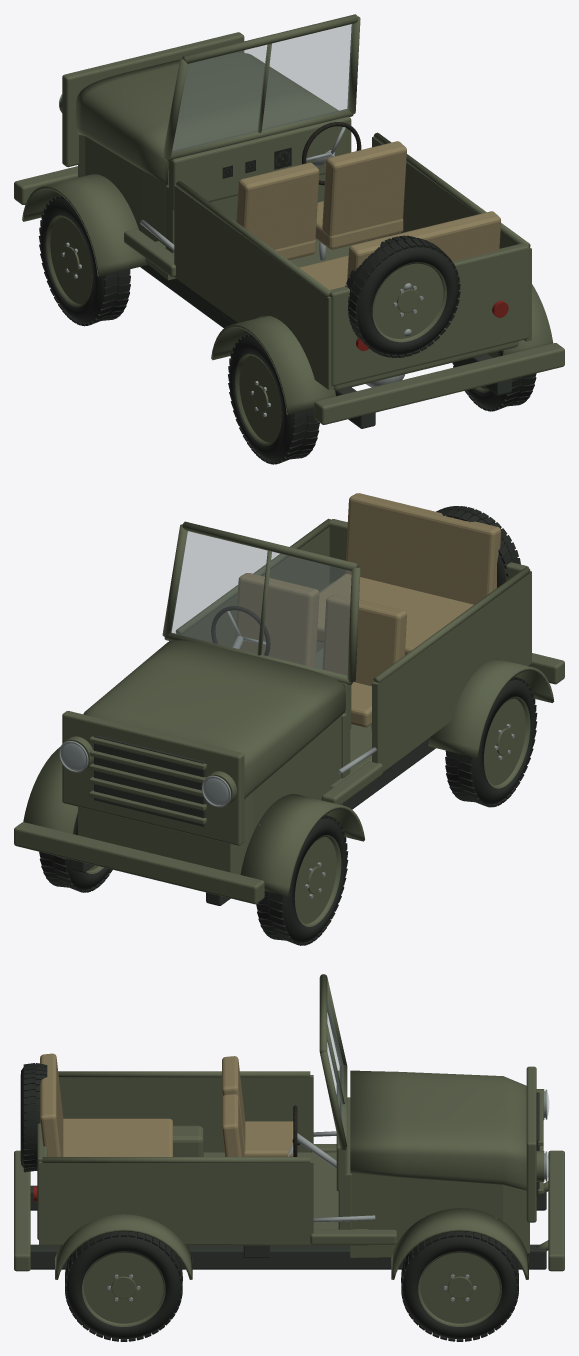
Rendered from utility-jeep.glb.
3 renders of one model, top to bottom at view 1: azimuth 30°, elevation 25°; view 2: azimuth 150°, elevation 25°; view 3: azimuth 270°, elevation 25°, orthographic. The views are drawn at different scales.
Visible parts, largest first — view 1: body-History original | olive, body-History original | canvas, body-glass, body-History original | rubber, wheel-2-History original | rubber, wheel-3-History original | rubber, wheel-2-History original | olive, wheel-3-History original | olive, body-black, wheel-1-History original | rubber, body-steel; view 2: body-History original | olive, body-History original | canvas, body-glass, body-black, wheel-3-History original | rubber, wheel-2-History original | rubber, wheel-2-History original | olive, wheel-3-History original | olive, wheel-0-History original | rubber, body-History original | rubber, body-aluminum, body-steel; view 3: body-History original | olive, body-History original | canvas, body-black, wheel-1-History original | rubber, wheel-0-History original | rubber, wheel-0-History original | olive, wheel-1-History original | olive, body-History original | rubber, body-steel, body-glass.
Boxes of the visible parts, box(x1,y1,x2,y2) form: body-History original | olive: box(14, 14, 564, 424); body-History original | canvas: box(236, 141, 500, 289); body-glass: box(172, 24, 352, 152); body-History original | rubber: box(345, 235, 460, 357); wheel-2-History original | rubber: box(38, 195, 130, 326); wheel-3-History original | rubber: box(228, 333, 319, 464); wheel-2-History original | olive: box(45, 215, 92, 307); wheel-3-History original | olive: box(234, 353, 281, 445); body-black: box(140, 265, 511, 428); wheel-1-History original | rubber: box(452, 350, 536, 411); body-steel: box(59, 94, 423, 387); body-History original | olive: box(14, 518, 564, 904); body-History original | canvas: box(235, 493, 500, 727); body-glass: box(61, 531, 351, 804); body-black: box(70, 735, 435, 905); wheel-3-History original | rubber: box(445, 676, 537, 807); wheel-2-History original | rubber: box(256, 815, 348, 945); wheel-2-History original | olive: box(294, 835, 341, 926); wheel-3-History original | olive: box(484, 696, 530, 788); wheel-0-History original | rubber: box(39, 815, 112, 892); body-History original | rubber: box(436, 506, 520, 587); body-aluminum: box(61, 743, 229, 805); body-steel: box(59, 611, 376, 807); body-History original | olive: box(14, 974, 564, 1279); body-History original | canvas: box(40, 1053, 293, 1156); body-black: box(30, 1092, 546, 1269); wheel-1-History original | rubber: box(65, 1231, 182, 1341); wheel-0-History original | rubber: box(401, 1231, 518, 1341); wheel-0-History original | olive: box(418, 1251, 501, 1326); wheel-1-History original | olive: box(82, 1251, 165, 1326); body-History original | rubber: box(20, 1063, 47, 1172); body-steel: box(288, 1089, 547, 1222); body-glass: box(327, 994, 548, 1177).
Bounding box in the file's own units: 1.84 × 2.06 × 3.71.
12 materials, 5 textured.
